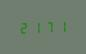one: (30, 20, 41, 34), (54, 19, 65, 33)
seven: (42, 20, 53, 33)
two: (18, 20, 29, 34)
